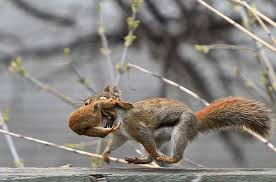squirrel: (69, 85, 272, 167)
